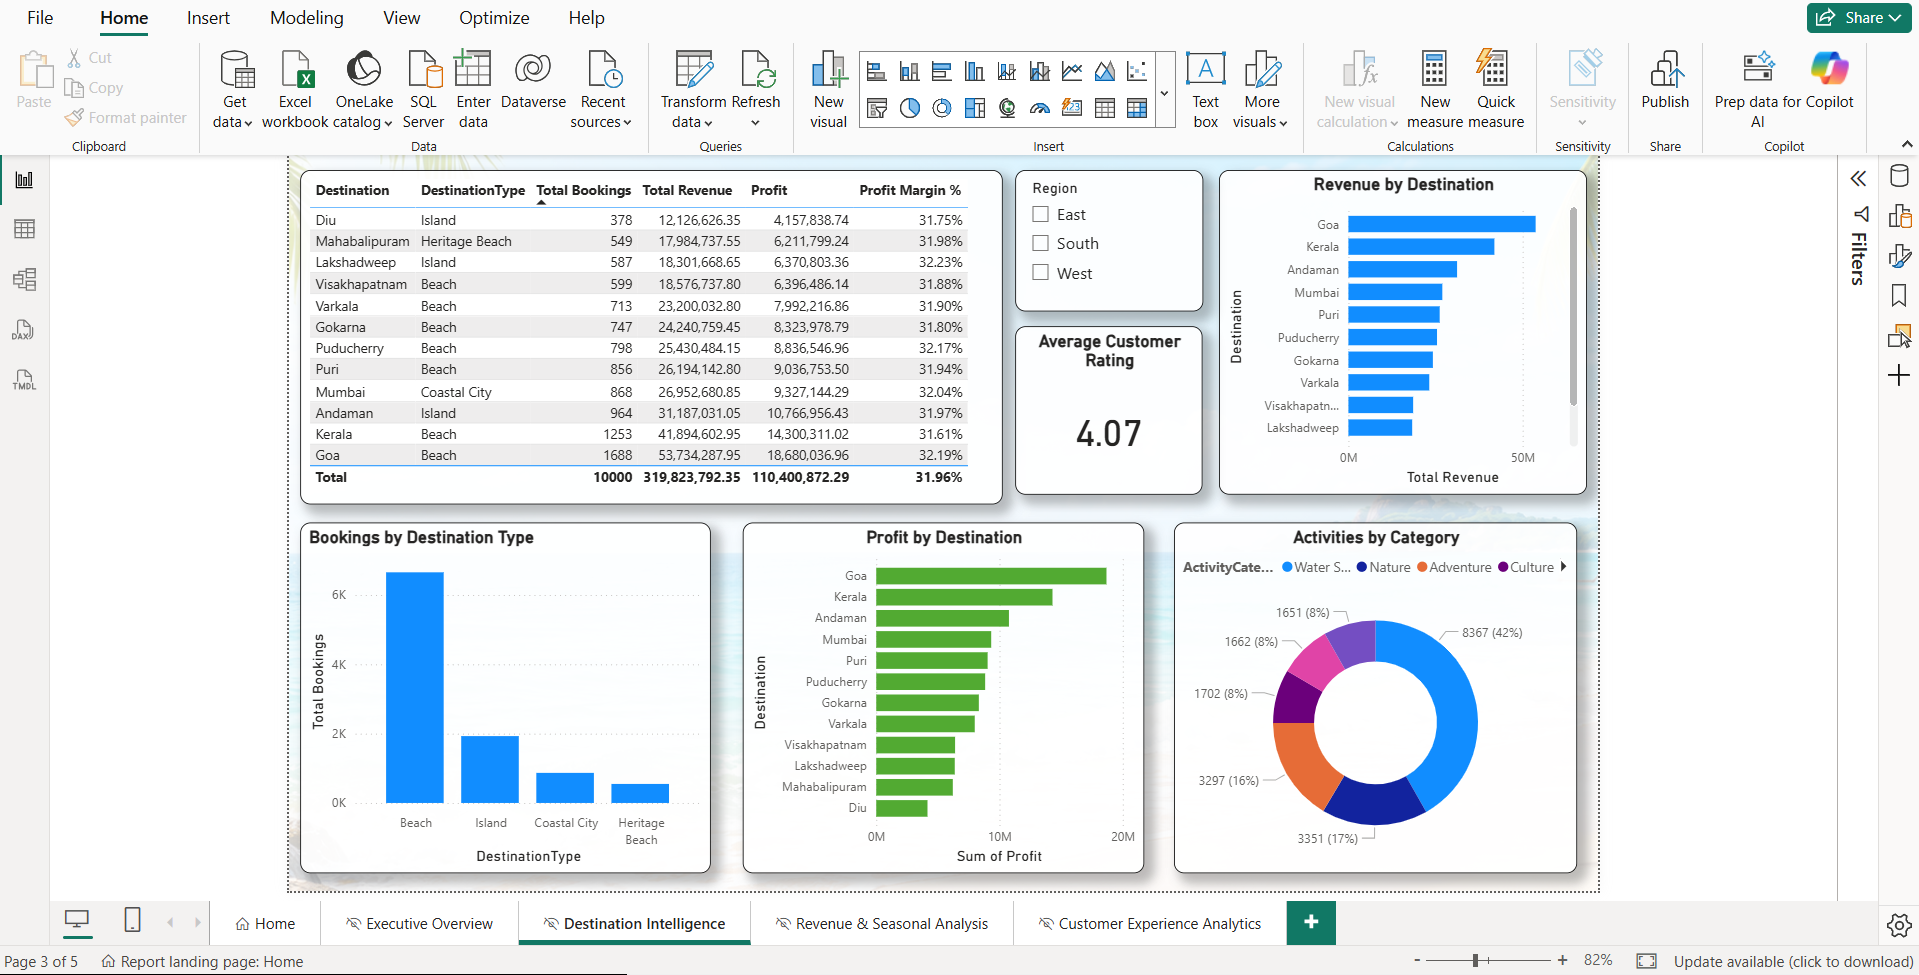

The page's visual inventory and layout, read from the dashboard file:
{"tool":"powerbi","page":{"name":"Destination Intelligence","canvas":[1280,720],"ordinal":2},"visuals":[{"type":"tableEx","fields":{"Values":["Dim_Destination.Destination","Dim_Destination.DestinationType","Measure Table.Total Bookings","Measure Table.Total Revenue","Sum(Fact_Booking.Profit)","Measure Table.Profit Margin %"]},"box":[11,15.2,687.5,327.2],"z":0},{"type":"clusteredBarChart","title":"Revenue by Destination ","fields":{"Category":["Dim_Destination.Destination"],"Y":["Measure Table.Total Revenue"]},"box":[909.8,15.2,360.3,317.5],"z":1000},{"type":"clusteredColumnChart","title":" Bookings by Destination Type","fields":{"Category":["Dim_Destination.DestinationType"],"Y":["Measure Table.Total Bookings"]},"box":[10.6,359.3,401.8,343.4],"z":2000},{"type":"clusteredBarChart","title":" Profit by Destination","fields":{"Category":["Dim_Destination.Destination"],"Y":["Sum(Fact_Booking.Profit)"]},"box":[444.3,359.3,392.9,343.4],"z":3000},{"type":"slicer","fields":{"Values":["Dim_Destination.Region"]},"box":[711,15.2,183.6,138.1],"z":4000},{"type":"donutChart","title":" Activities by Category","fields":{"Category":["Dim_Activity.ActivityCategory"],"Y":["Sum(Fact_Booking.ActivityCount)"]},"box":[865.5,359.3,394.7,343.4],"z":5000},{"type":"card","title":"Average Customer Rating","fields":{"Values":["Avg(Fact_Booking.CustomerRating)"]},"box":[710.5,167.5,183.4,165.1],"z":6000}]}

Visuals, with their boxes on the page's 1280x720 design canvas (x1, y1, x2, y2). These are canvas units, not pixel positions in the 1919x975 screenshot, which may show the page scaled, cropped or inside an application window:
tableEx - Dim_Destination.Destination x Dim_Destination.DestinationType: [x1=11, y1=15, x2=698, y2=342]
"Revenue by Destination " clusteredBarChart: [x1=910, y1=15, x2=1270, y2=333]
" Bookings by Destination Type" clusteredColumnChart: [x1=11, y1=359, x2=412, y2=703]
" Profit by Destination" clusteredBarChart: [x1=444, y1=359, x2=837, y2=703]
slicer - Dim_Destination.Region: [x1=711, y1=15, x2=895, y2=153]
" Activities by Category" donutChart: [x1=866, y1=359, x2=1260, y2=703]
"Average Customer Rating" card: [x1=710, y1=168, x2=894, y2=333]
